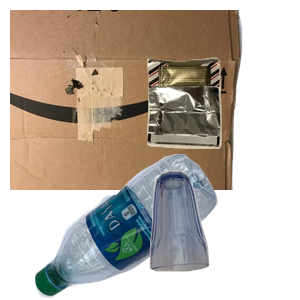cardboard: (10, 10, 245, 190)
glass: (147, 168, 300, 300)
plastic: (32, 154, 242, 300)
trash: (144, 55, 300, 197)
